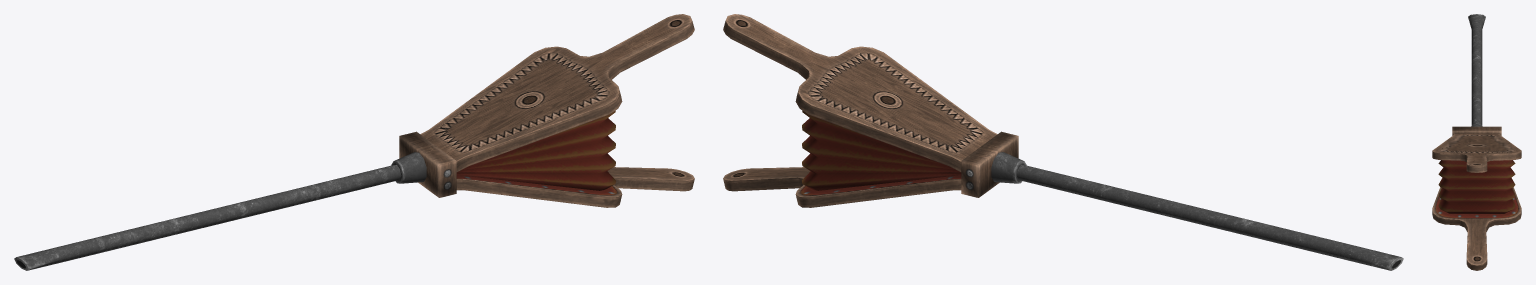
The model's file is LOD0_blower.fbx.
3 views of the same model, side by side, from view 1: azimuth 30°, elevation 25°; view 2: azimuth 150°, elevation 25°; view 3: azimuth 270°, elevation 25° (orthographic). The views are drawn at different scales.
Visible parts, largest first — view 1: LOD0_blower; view 2: LOD0_blower; view 3: LOD0_blower.
Boxes of the visible parts, bbox=[...] form: LOD0_blower: bbox=[14, 14, 694, 270]; LOD0_blower: bbox=[723, 14, 1403, 270]; LOD0_blower: bbox=[1432, 14, 1521, 270].
Bounding box in the file's own units: 1.15 × 0.2775 × 0.2148.
